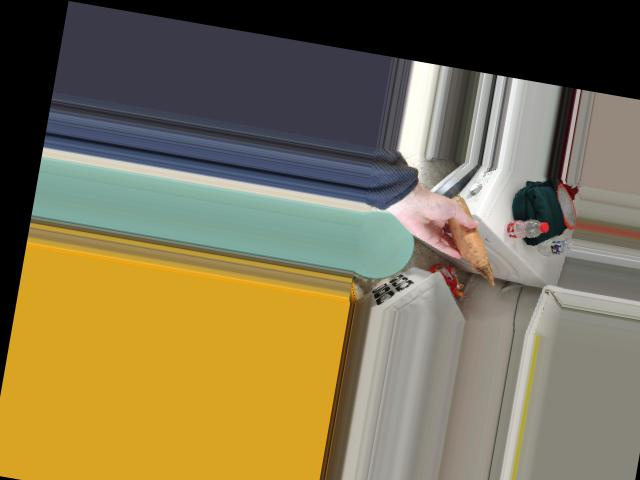sweet_potato: (434, 196, 487, 254)
